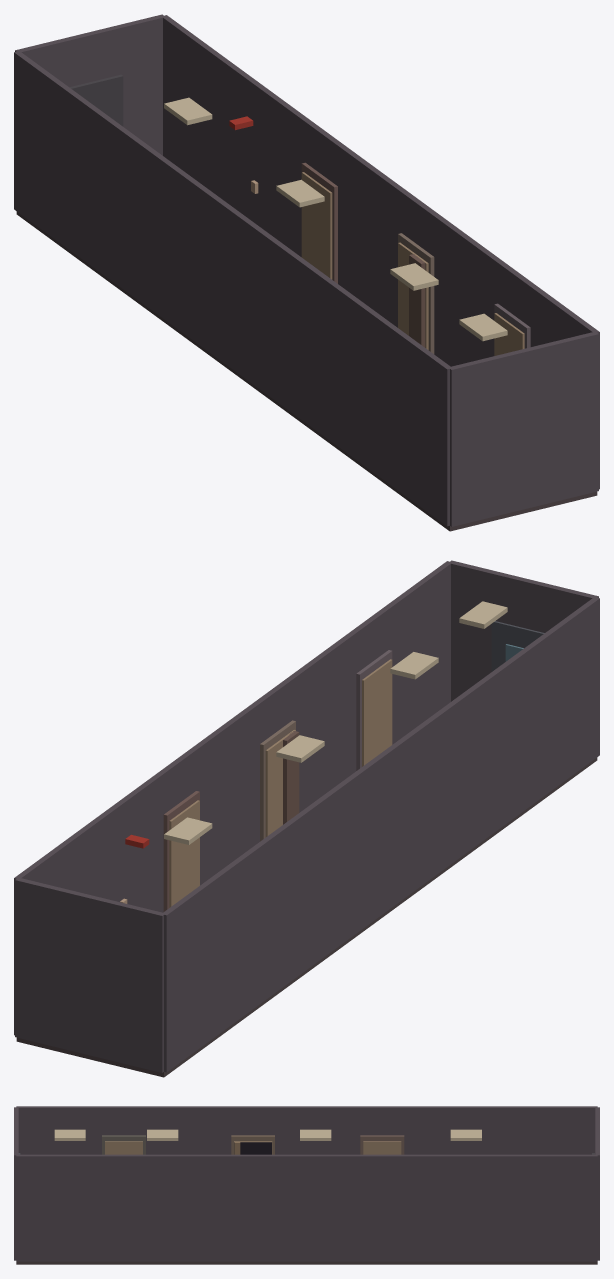
File: pasilloDesfaseC2.obj
3 renders of one model, top to bottom at view 1: azimuth 30°, elevation 25°; view 2: azimuth 150°, elevation 25°; view 3: azimuth 270°, elevation 25°, orthographic. The views are drawn at different scales.
Visible parts, largest first — view 1: pasilloDesfaseC2_c2_10, pasilloDesfaseC2_c2_11, pasilloDesfaseC2_c2_12, pasilloDesfaseC2_c2_13, pasilloDesfaseC2_c2_54, pasilloDesfaseC2_c2_9, pasilloDesfaseC2_c2_40, pasilloDesfaseC2_c2_56, pasilloDesfaseC2_c2_86, pasilloDesfaseC2_c2_55, pasilloDesfaseC2_c2_53, pasilloDesfaseC2_c2_69 (+4 smaller); view 2: pasilloDesfaseC2_c2_10, pasilloDesfaseC2_c2_11, pasilloDesfaseC2_c2_13, pasilloDesfaseC2_c2_12, pasilloDesfaseC2_c2_59, pasilloDesfaseC2_c2_9, pasilloDesfaseC2_c2_54, pasilloDesfaseC2_c2_56, pasilloDesfaseC2_c2_41, pasilloDesfaseC2_c2_86, pasilloDesfaseC2_c2_53, pasilloDesfaseC2_c2_58 (+5 smaller); view 3: pasilloDesfaseC2_c2_11, pasilloDesfaseC2_c2_10, pasilloDesfaseC2_c2_9, pasilloDesfaseC2_c2_12, pasilloDesfaseC2_c2_13, pasilloDesfaseC2_c2_43, pasilloDesfaseC2_c2_51, pasilloDesfaseC2_c2_47, pasilloDesfaseC2_c2_42, pasilloDesfaseC2_c2_45, pasilloDesfaseC2_c2_50, pasilloDesfaseC2_c2_63 (+3 smaller).
Boxes of the visible parts, x1,y1,x2,y2 form: pasilloDesfaseC2_c2_10: (14,51,451,526); pasilloDesfaseC2_c2_11: (162,15,599,489); pasilloDesfaseC2_c2_12: (449,332,598,526); pasilloDesfaseC2_c2_13: (15,14,164,155); pasilloDesfaseC2_c2_54: (301,172,332,279); pasilloDesfaseC2_c2_9: (16,211,597,531); pasilloDesfaseC2_c2_40: (69,74,123,126); pasilloDesfaseC2_c2_56: (398,242,428,349); pasilloDesfaseC2_c2_86: (409,254,425,347); pasilloDesfaseC2_c2_55: (398,233,434,353); pasilloDesfaseC2_c2_53: (301,162,337,283); pasilloDesfaseC2_c2_69: (459,313,507,341); pasilloDesfaseC2_c2_10: (162,597,599,1072); pasilloDesfaseC2_c2_11: (14,561,452,1035); pasilloDesfaseC2_c2_13: (15,878,164,1072); pasilloDesfaseC2_c2_12: (449,560,598,701); pasilloDesfaseC2_c2_59: (362,659,392,766); pasilloDesfaseC2_c2_9: (16,757,597,1077); pasilloDesfaseC2_c2_54: (169,800,199,907); pasilloDesfaseC2_c2_56: (265,730,295,837); pasilloDesfaseC2_c2_41: (491,621,544,671); pasilloDesfaseC2_c2_86: (283,731,299,824); pasilloDesfaseC2_c2_53: (163,791,199,911); pasilloDesfaseC2_c2_58: (356,650,392,770); pasilloDesfaseC2_c2_11: (16,1154,597,1261); pasilloDesfaseC2_c2_10: (16,1106,597,1154); pasilloDesfaseC2_c2_9: (16,1261,597,1264); pasilloDesfaseC2_c2_12: (14,1107,18,1260); pasilloDesfaseC2_c2_13: (595,1107,599,1260); pasilloDesfaseC2_c2_43: (363,1141,401,1154); pasilloDesfaseC2_c2_51: (105,1141,142,1154); pasilloDesfaseC2_c2_47: (234,1142,271,1154); pasilloDesfaseC2_c2_42: (360,1135,404,1154); pasilloDesfaseC2_c2_45: (231,1135,274,1154); pasilloDesfaseC2_c2_50: (102,1135,145,1154); pasilloDesfaseC2_c2_63: (450,1129,481,1140).
Bounding box in the file's own units: 5.5 × 5.6 × 27.22.
